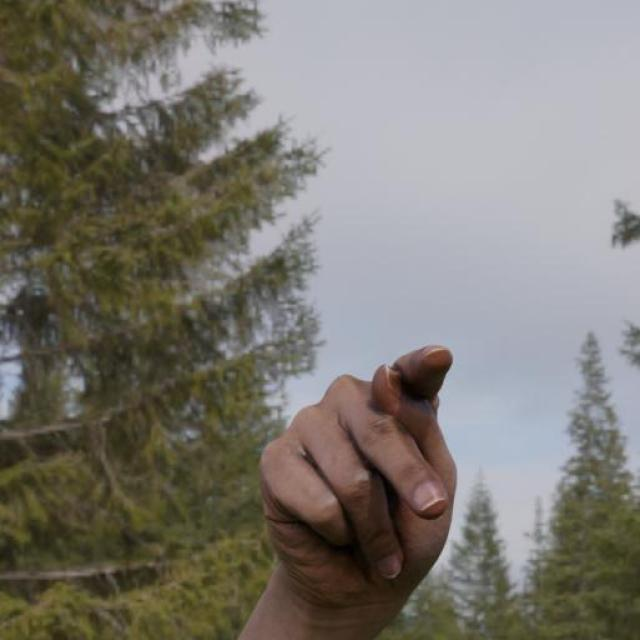P: (236, 334, 494, 634)
